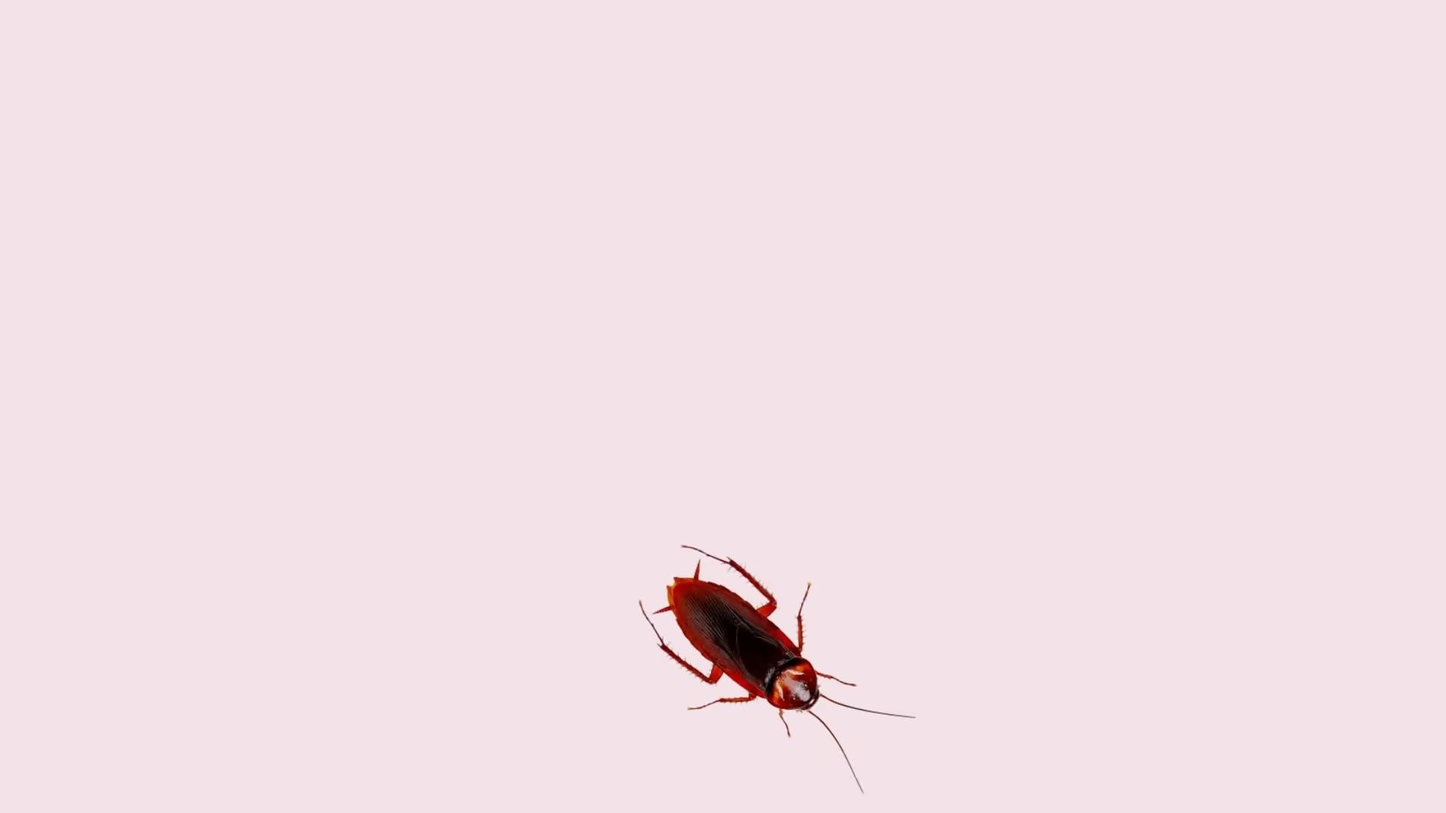cockroach: (596, 528, 901, 780)
